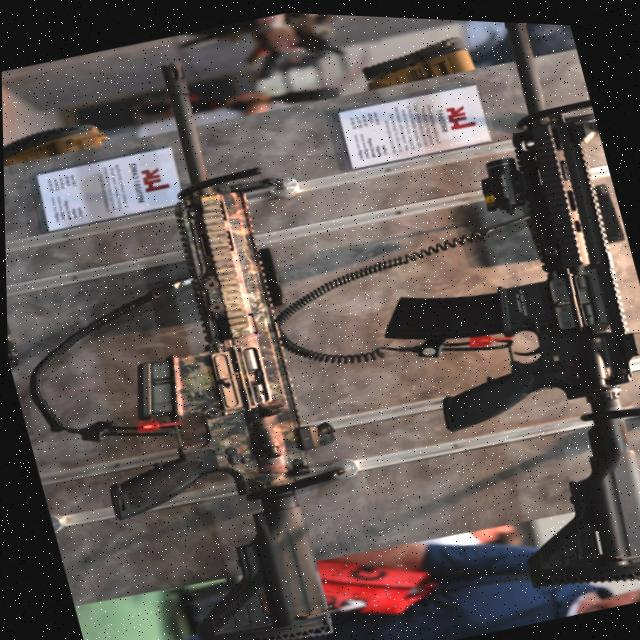firearm: (4, 40, 382, 640), (303, 11, 640, 621), (237, 8, 348, 81)
